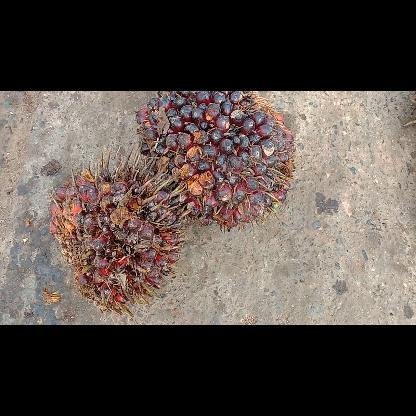Kurang masak: (135, 91, 295, 233)
TBS masak: (48, 142, 190, 316)
